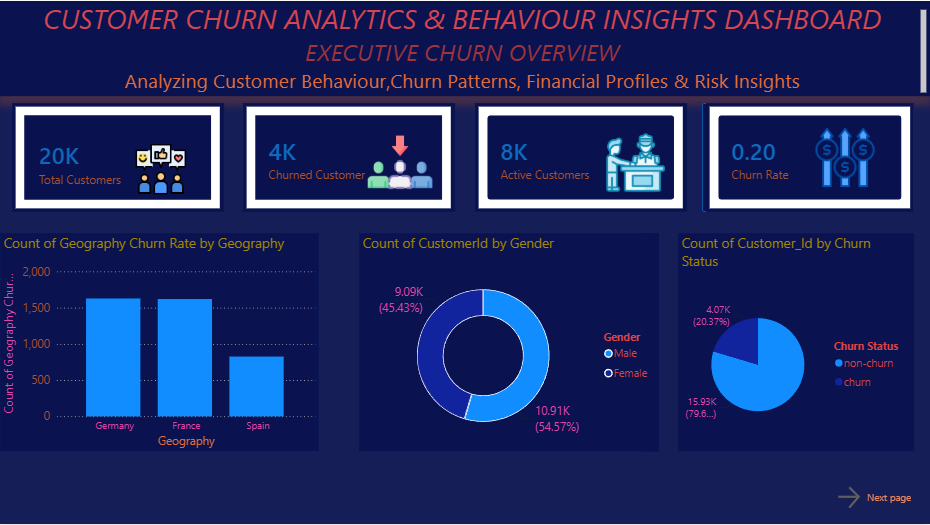

What the dashboard file says about the page in this screenshot:
{"tool":"powerbi","page":{"name":"Executive Churn Overview","canvas":[1280,720],"ordinal":0},"visuals":[{"type":"textbox","box":[0,0,1280,130.8],"z":0},{"type":"shape","box":[16.5,140.4,291.8,150],"z":1000},{"type":"shape","box":[966.2,140.4,291.8,150],"z":2000},{"type":"shape","box":[334.5,140.4,291.8,150],"z":3000},{"type":"shape","box":[653.8,140.4,291.8,150],"z":4000},{"type":"shape","box":[0,319.3,439.1,301.4],"z":5000},{"type":"shape","box":[933.2,319.3,324.8,301.4],"z":6000},{"type":"actionButton","box":[1147.9,663.4,110.1,39.9],"z":7000},{"type":"cardVisual","fields":{"Data":["ALL MEASURE.Total customers"]},"box":[16.5,140.4,291.8,150],"z":8000},{"type":"cardVisual","fields":{"Data":["ALL MEASURE.Churned customer"]},"box":[334.5,140.4,291.8,150],"z":9000},{"type":"cardVisual","fields":{"Data":["ALL MEASURE.Active Customer"]},"box":[653.8,140.4,291.8,150],"z":10000},{"type":"cardVisual","fields":{"Data":["ALL MEASURE.Churn Rate"]},"box":[971.7,140.4,286.3,150],"z":11000},{"type":"columnChart","fields":{"Category":["churn_modelling_db.Geography"],"Y":["CountNonNull(churn_modelling_db.Geography Churn Rate)"]},"box":[0,319.3,439.1,301.4],"z":12000},{"type":"shape","box":[494.1,319.3,389.5,301.4],"z":13000},{"type":"donutChart","fields":{"Category":["churn_modelling_db.Gender"],"Y":["CountNonNull(churn_modelling_db.CustomerId)"]},"box":[494.1,319.3,412.9,301.4],"z":14000},{"type":"pieChart","fields":{"Category":["churn table.Churn Status"],"Y":["CountNonNull(churn table.Customer_Id)"]},"box":[933.2,319.3,324.8,301.4],"z":15000},{"type":"image","box":[494.1,177.5,112.9,89.5],"z":16000},{"type":"image","box":[162.4,195.4,118.4,71.6],"z":17000},{"type":"image","box":[816.2,177.5,117,89.5],"z":18000},{"type":"image","box":[1112.1,173.4,101.8,84],"z":19000}]}

Visuals, with their boxes in screenshot pixels (x1, y1, x2, y2), scaled from the page's 1280x720 canvas onto the 930x525 screenshot:
textbox: [left=0, top=0, right=929, bottom=95]
shape: [left=12, top=102, right=224, bottom=212]
shape: [left=702, top=102, right=914, bottom=212]
shape: [left=243, top=102, right=455, bottom=212]
shape: [left=475, top=102, right=687, bottom=212]
shape: [left=0, top=233, right=319, bottom=453]
shape: [left=678, top=233, right=914, bottom=453]
actionButton: [left=834, top=484, right=914, bottom=513]
cardVisual - ALL MEASURE.Total customers: [left=12, top=102, right=224, bottom=212]
cardVisual - ALL MEASURE.Churned customer: [left=243, top=102, right=455, bottom=212]
cardVisual - ALL MEASURE.Active Customer: [left=475, top=102, right=687, bottom=212]
cardVisual - ALL MEASURE.Churn Rate: [left=706, top=102, right=914, bottom=212]
columnChart - churn_modelling_db.Geography x CountNonNull(churn_modelling_db.Geography Churn Rate): [left=0, top=233, right=319, bottom=453]
shape: [left=359, top=233, right=642, bottom=453]
donutChart - churn_modelling_db.Gender x CountNonNull(churn_modelling_db.CustomerId): [left=359, top=233, right=659, bottom=453]
pieChart - churn table.Churn Status x CountNonNull(churn table.Customer_Id): [left=678, top=233, right=914, bottom=453]
image: [left=359, top=129, right=441, bottom=195]
image: [left=118, top=142, right=204, bottom=195]
image: [left=593, top=129, right=678, bottom=195]
image: [left=808, top=126, right=882, bottom=188]
